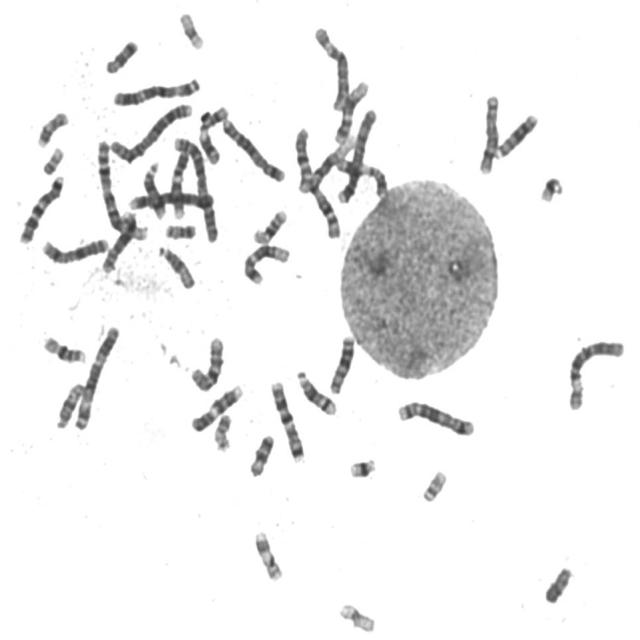A1: (290, 121, 344, 242), (93, 132, 151, 242)
A2: (168, 130, 222, 245), (108, 97, 196, 163)
A3: (70, 320, 122, 432), (109, 70, 204, 108)
B4: (334, 102, 379, 205), (124, 185, 218, 213)
B5: (218, 113, 288, 183), (394, 393, 478, 438)
C10: (187, 330, 227, 394), (292, 122, 316, 194)
C11: (333, 153, 391, 198), (196, 99, 232, 165)
C12: (331, 75, 372, 145), (240, 238, 294, 286)
C6: (565, 332, 628, 412), (310, 20, 354, 111)
C7: (16, 169, 67, 245), (267, 375, 308, 463)
C8: (99, 206, 139, 274), (476, 88, 504, 176)
C9: (188, 379, 246, 433), (168, 143, 192, 220)
D13: (492, 107, 541, 159), (326, 329, 358, 395)
D14: (294, 364, 339, 416), (140, 156, 168, 219)
D15: (155, 240, 198, 290), (52, 376, 88, 431)
E16: (40, 329, 90, 365), (250, 203, 290, 246)
E17: (251, 524, 286, 582), (34, 105, 72, 149)
E18: (102, 33, 141, 75), (246, 428, 278, 478)
F19: (336, 597, 378, 634), (175, 5, 207, 51)
F20: (210, 408, 234, 453), (162, 217, 198, 241)
G21: (537, 169, 567, 204), (346, 451, 380, 480)
G22: (419, 464, 451, 504), (39, 141, 67, 177)
X: (39, 231, 111, 265)
Y: (541, 560, 576, 605)
